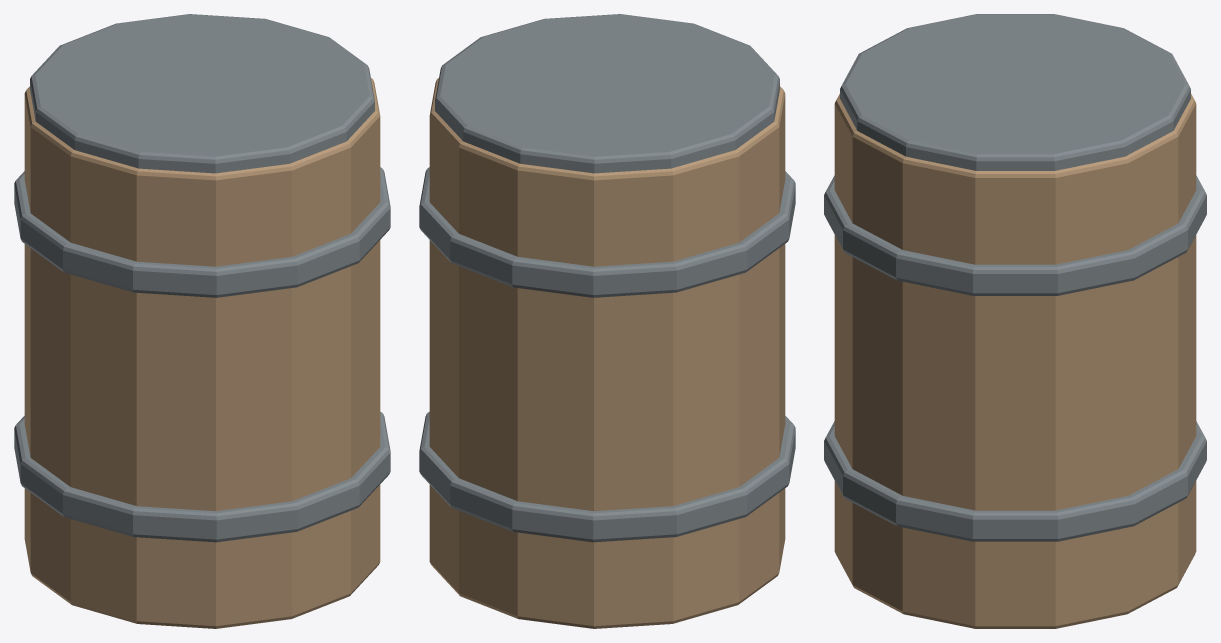
File: SM_Prop_Barrel.fbx
3 views of the same model, side by side, from view 1: azimuth 30°, elevation 25°; view 2: azimuth 150°, elevation 25°; view 3: azimuth 270°, elevation 25° (orthographic).
Visible parts, largest first — view 1: SM_Prop_Barrel; view 2: SM_Prop_Barrel; view 3: SM_Prop_Barrel.
Part boxes in pixels (left/top/right/bottom): SM_Prop_Barrel: left=14, top=14, right=390, bottom=628; SM_Prop_Barrel: left=419, top=14, right=795, bottom=628; SM_Prop_Barrel: left=824, top=14, right=1206, bottom=628.
Bounding box in the file's own units: 0.7019 × 0.98 × 0.72.
